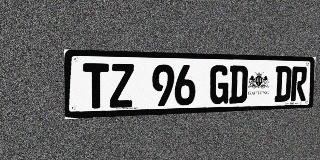6: (175, 65, 196, 106)
9: (152, 64, 175, 106)
D: (229, 65, 248, 104), (274, 66, 292, 102)
G: (209, 65, 229, 104)
R: (290, 66, 308, 101)
T: (83, 63, 109, 109)
Z: (110, 64, 134, 108)
